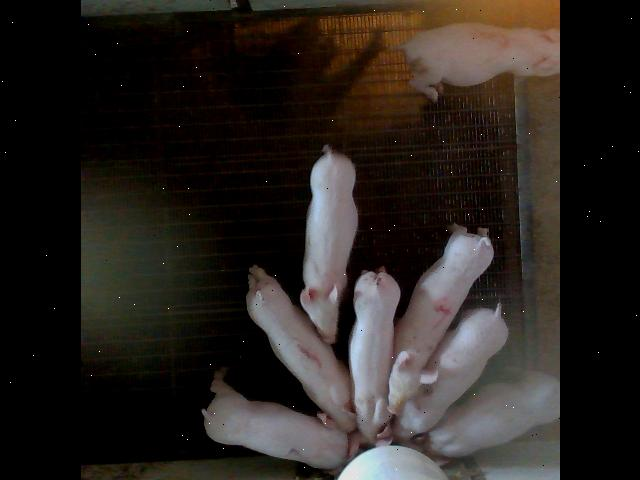pig-1: (246, 265, 355, 432)
pig-3: (394, 22, 558, 100)
pig-4: (388, 226, 492, 414)
